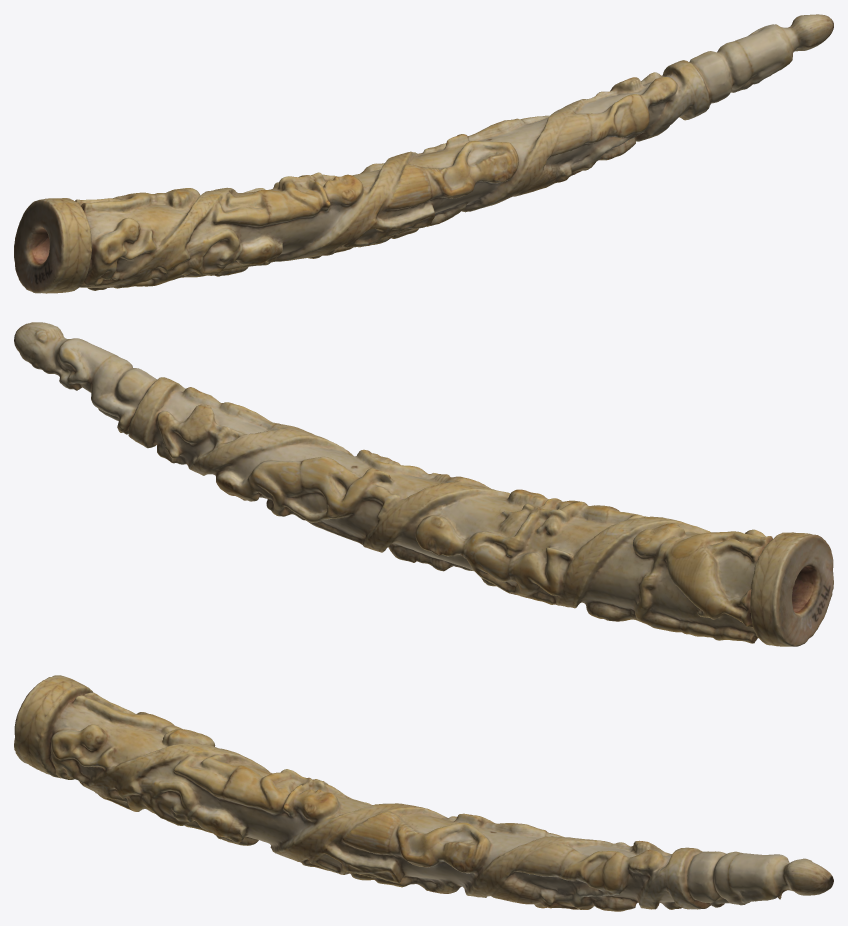
Rendered from preview.glb.
3 renders of one model, top to bottom at view 1: azimuth 30°, elevation 25°; view 2: azimuth 150°, elevation 25°; view 3: azimuth 330°, elevation 25°, orthographic. The views are drawn at different scales.
Size of the model in its own units: 277 by 44.44 by 34.96.
1 material, 1 textured.
